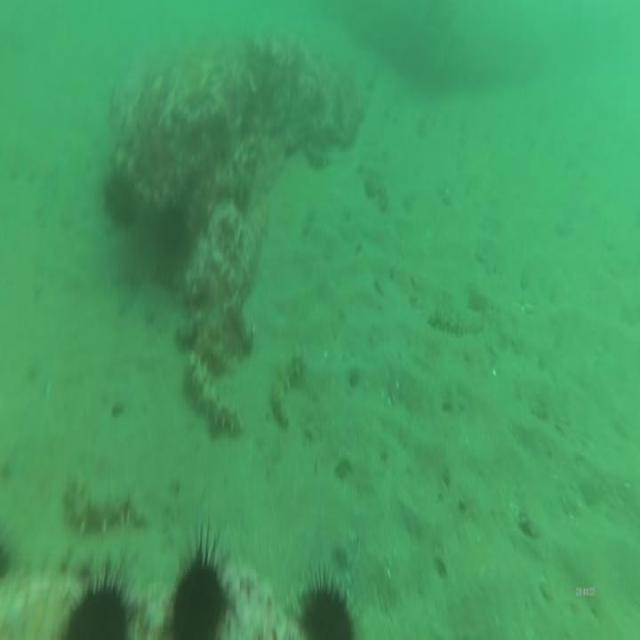echinus: (162, 521, 236, 640), (63, 548, 141, 640), (292, 554, 360, 640), (102, 167, 136, 234)
holothurian: (64, 471, 146, 539), (185, 350, 241, 442), (268, 350, 310, 434)
